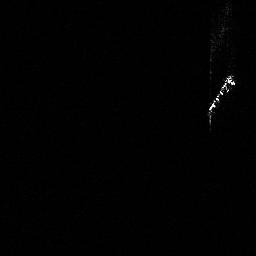ship: (209, 74, 234, 112)
